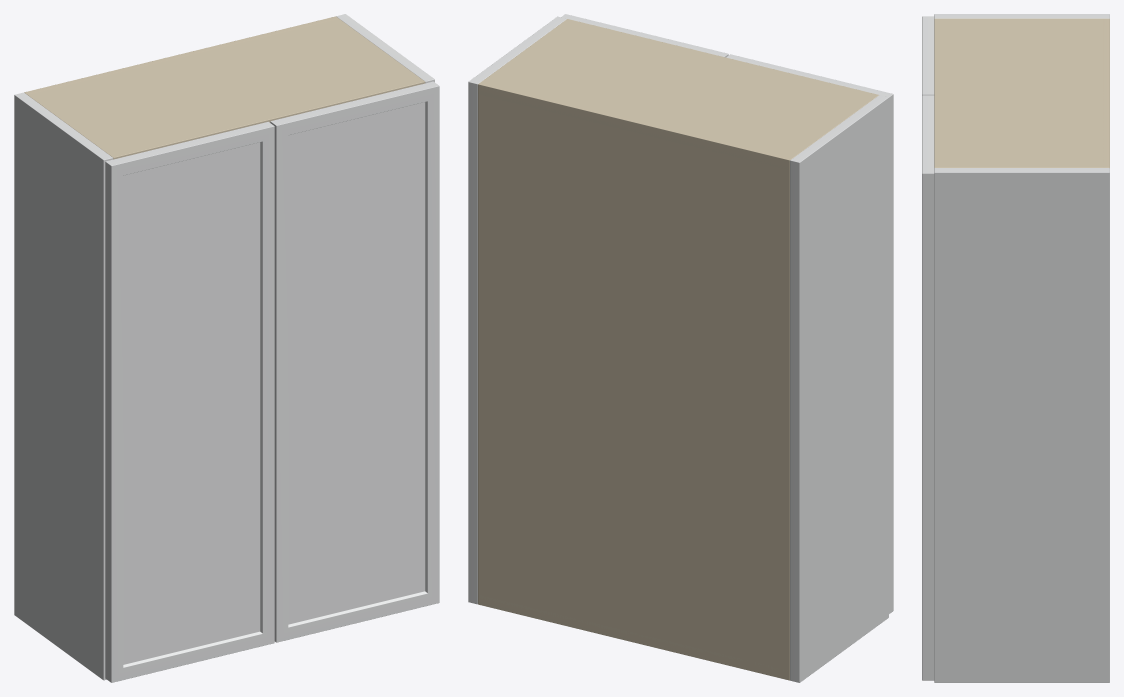
File: oppein-ply-ssw-w2436.glb
The picture shows the model from 3 angles, left to right: view 1: azimuth 30°, elevation 25°; view 2: azimuth 150°, elevation 25°; view 3: azimuth 270°, elevation 25°; orthographic projection.
Visible parts, largest first — view 1: Door, Door.001, Cabinet side, Cabinet top, Cabinet back, Cabinet side.001; view 2: Cabinet back, Cabinet side, Cabinet top, Cabinet side.001, Door, Cabinet bottom, Door.001; view 3: Cabinet side.001, Cabinet top, Door.001, Cabinet back, Door, Cabinet side.
Part boxes in pixels (x1,y1,x2,y2): Door: (105, 121, 274, 682); Door.001: (270, 81, 439, 642); Cabinet side: (14, 92, 113, 680); Cabinet top: (25, 19, 425, 159); Cabinet back: (24, 16, 338, 94); Cabinet side.001: (336, 14, 434, 83); Cabinet back: (478, 81, 792, 680); Cabinet side: (790, 95, 888, 682); Cabinet top: (478, 19, 878, 169); Cabinet side.001: (468, 16, 566, 604); Door: (726, 54, 893, 613); Cabinet bottom: (478, 595, 789, 678); Door.001: (561, 14, 728, 57); Cabinet side.001: (934, 168, 1109, 682); Cabinet top: (934, 18, 1109, 167); Door.001: (922, 95, 934, 680); Cabinet back: (1103, 18, 1109, 167); Door: (922, 16, 934, 95); Cabinet side: (934, 14, 1109, 18).
Bounding box in the file's own units: 0.6096 × 0.9144 × 0.3048.
